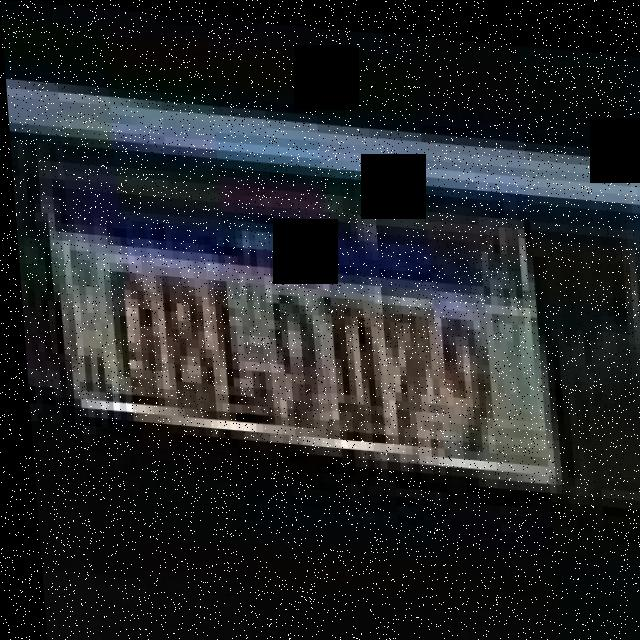7: (373, 289, 429, 443)
9: (429, 298, 491, 455), (263, 273, 319, 421)
B: (150, 258, 214, 411)
L: (204, 267, 268, 418)
O: (97, 258, 157, 411), (315, 284, 377, 424)
